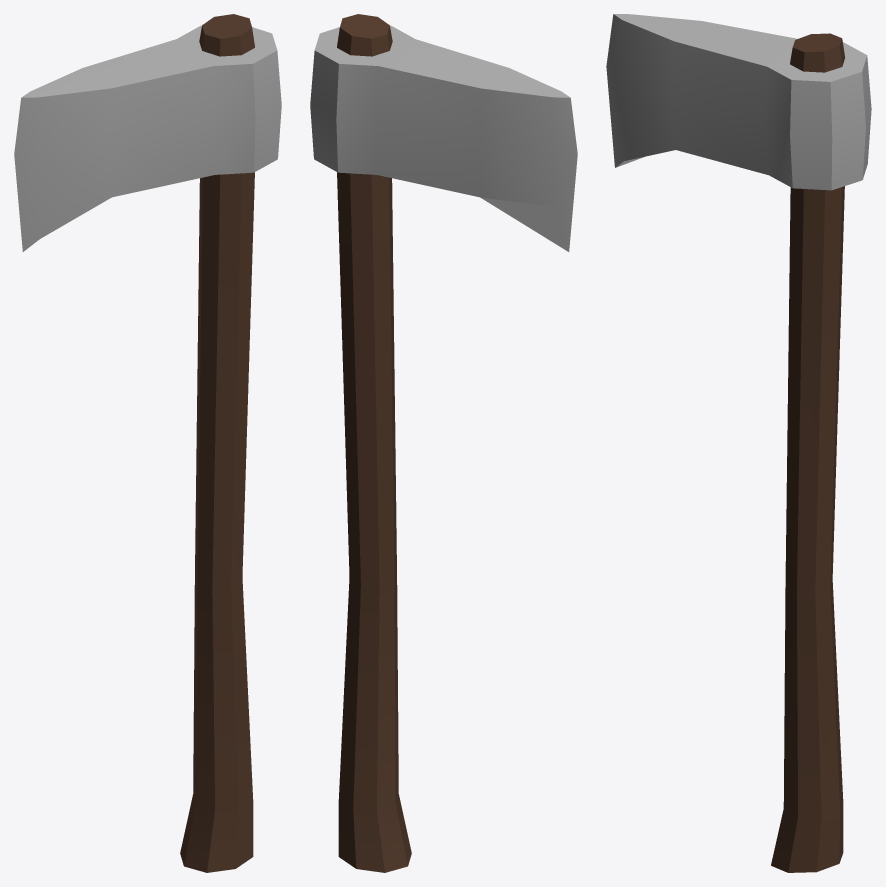
The model's file is LumberAxe.fbx.
3 views of the same model, side by side, from view 1: azimuth 30°, elevation 25°; view 2: azimuth 150°, elevation 25°; view 3: azimuth 330°, elevation 25° (orthographic).
Visible parts, largest first — view 1: HolzAxt; view 2: HolzAxt; view 3: HolzAxt.
Part boxes in pixels (left/top/right/bottom): HolzAxt: left=14, top=14, right=281, bottom=872; HolzAxt: left=310, top=14, right=577, bottom=872; HolzAxt: left=606, top=14, right=871, bottom=872.
Size of the model in its own units: 96.03 by 291 by 35.66.
